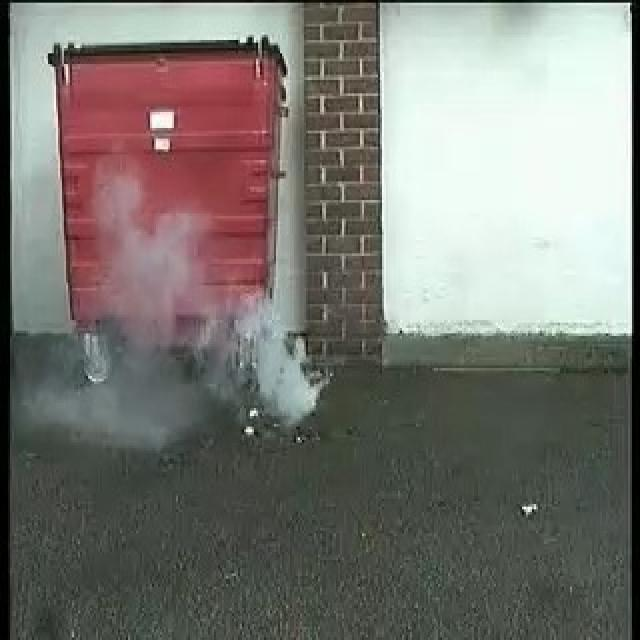Smoke: (108, 232, 322, 425)
